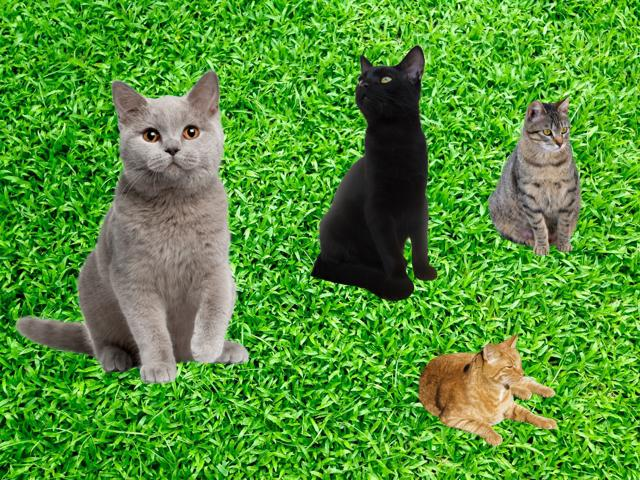cat: (3, 67, 292, 383), (302, 39, 466, 308), (485, 93, 585, 258), (418, 333, 557, 446)
